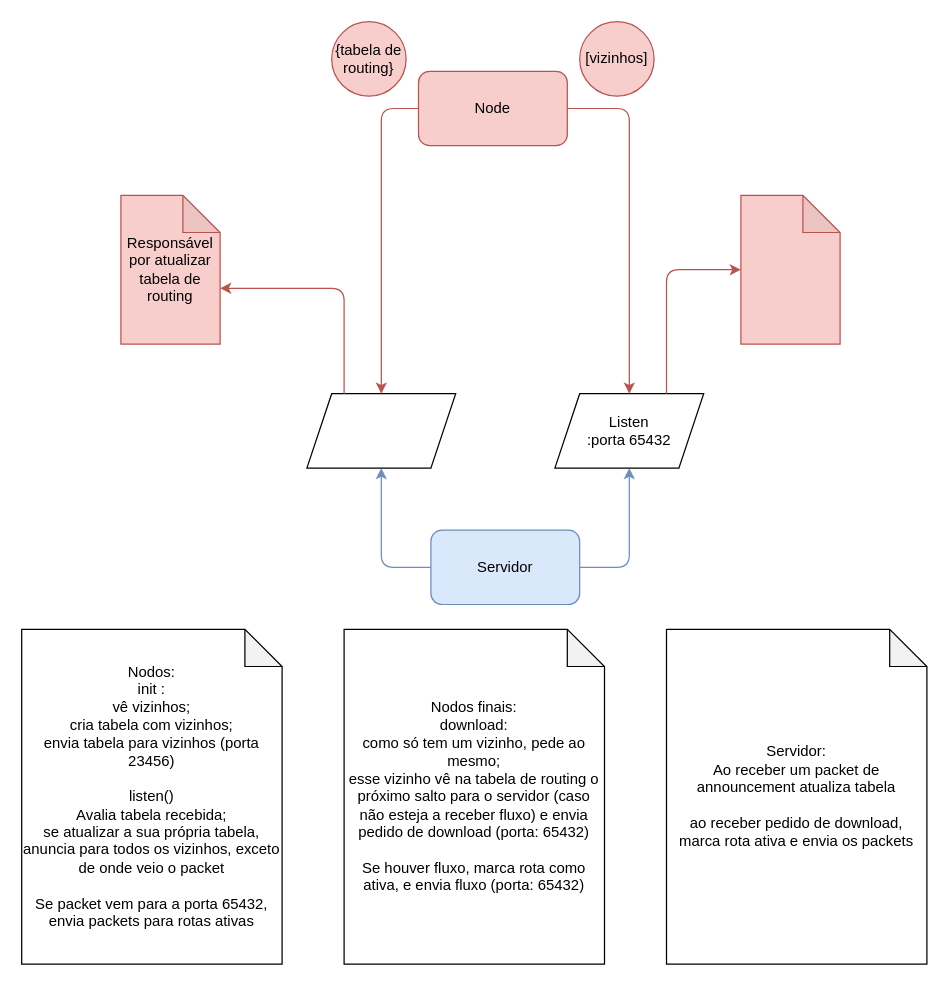
The diagram is 949 pixels wide and 986 high, and some of its shapes have lost their labels. The shapes that lost their labels are listed below. From the top down, each one's box as (x1, y1, x2, y2) in pixels, then its label:
(740, 194, 840, 344): Responsável por atualizar lista de vizinhos com rota ativa
(306, 392, 456, 468): Listen Announcement :porta 23456
